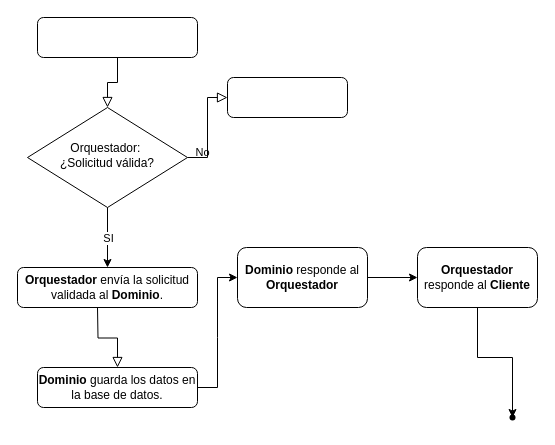
Image size: 555x445. Some labels were removed from this diagram. The shapes that lost their labels are listed below. From the top down, each one's box as (x1, y1, x2, y2) in pixels, then its label:
(36, 16, 198, 58): Cliente envía una solicitud POST al Orquestador
(226, 76, 348, 118): Devuelve respuesta Invalid Error
